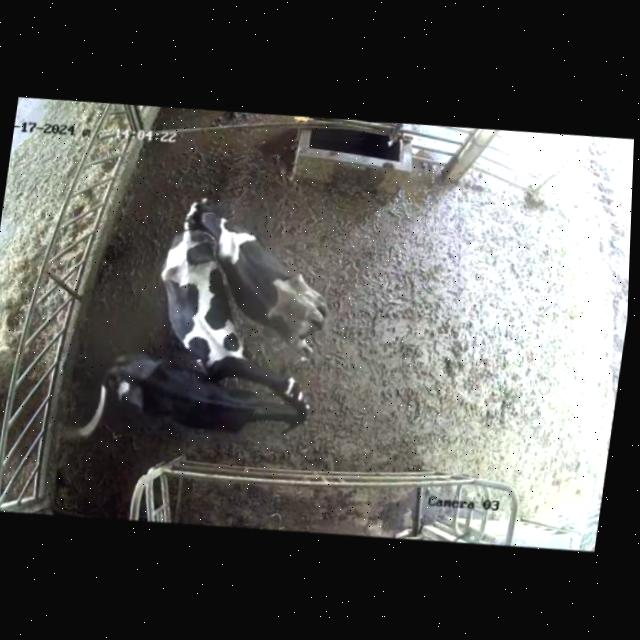stand: (140, 228, 337, 416), (64, 337, 321, 473), (168, 171, 348, 352)
